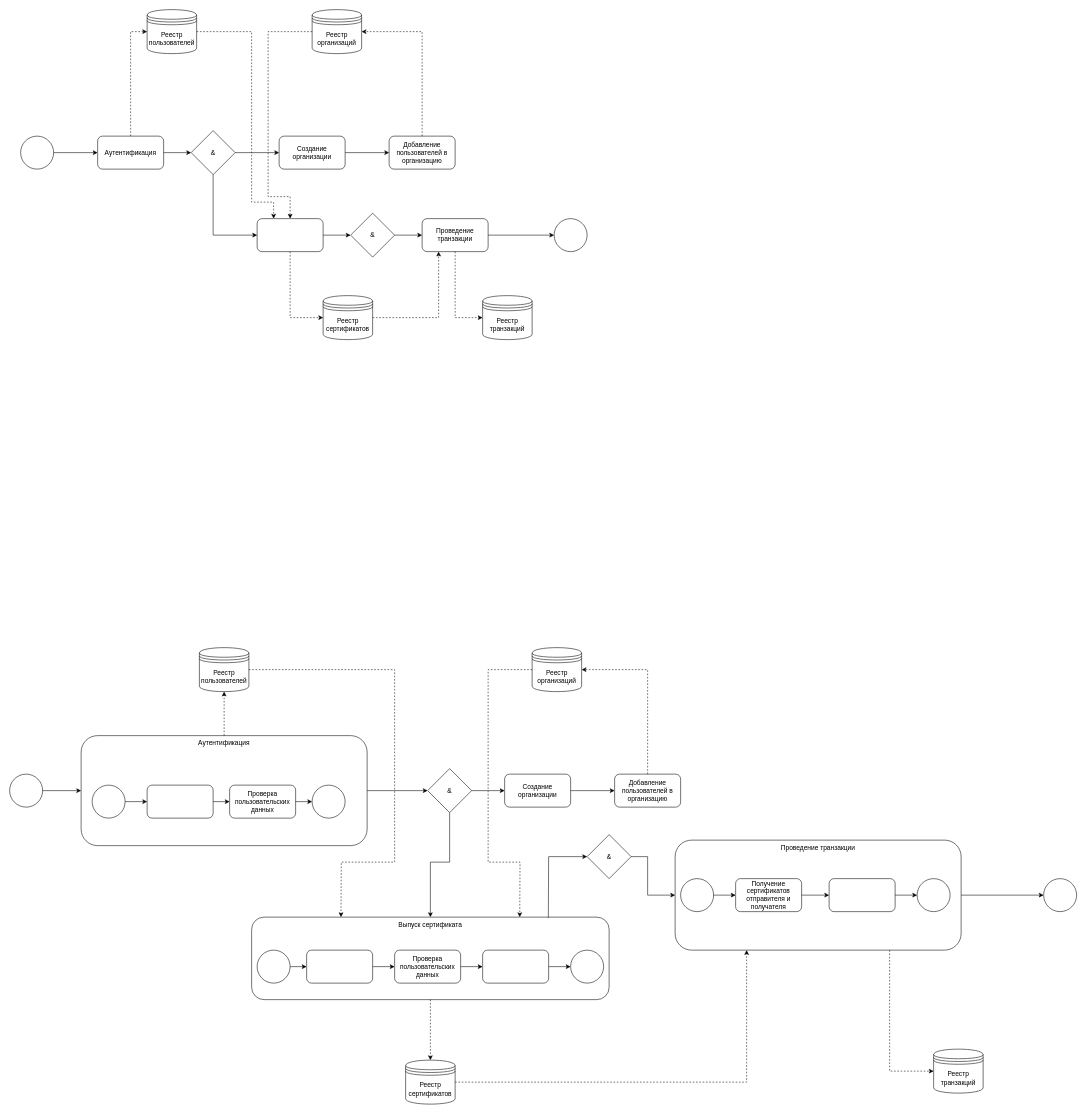
Some shapes in this 1086 by 1114 pixel diagram are drawn without their labels. The centre of each missing label's shape, as x and y in pixels:
Верификация транзакции на основе ZKP алгоритмов: [862,895]
Выпуск сертификатов: [290,235]
Генерация пользовательских атрибутов и ключей: [180,801]
Подпись данных своим закрытым ключом: [515,966]
Получение пользовательских данных: [339,966]
